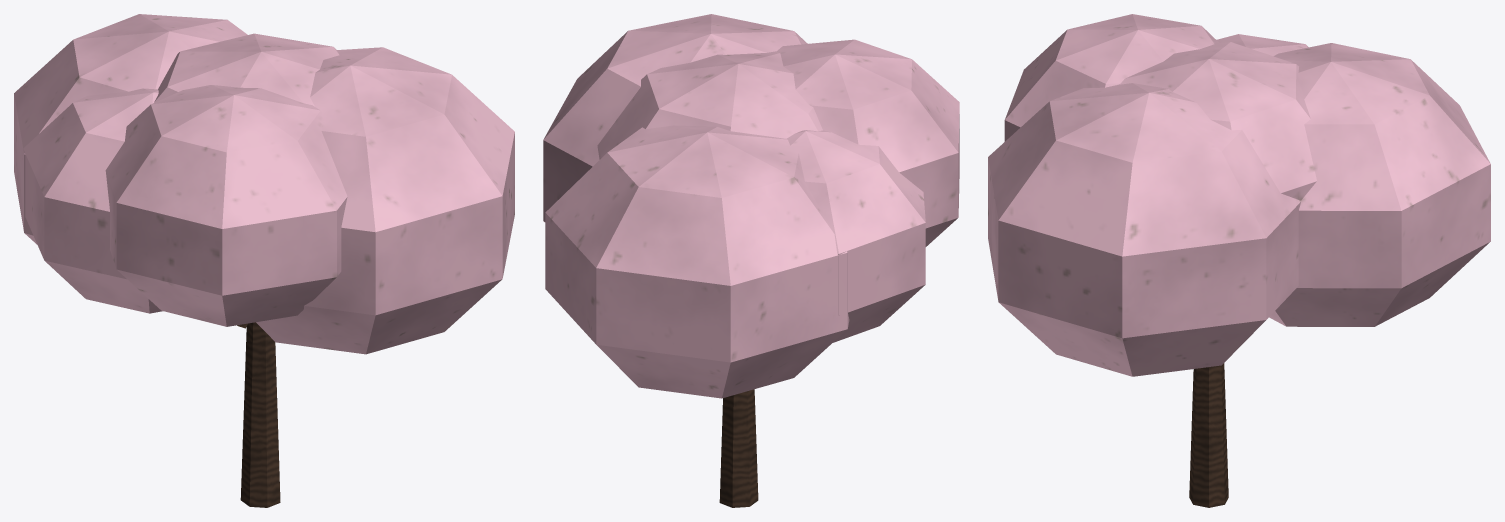
File: Tree_Cherry.fbx
3 renders of one model, left to right at view 1: azimuth 30°, elevation 25°; view 2: azimuth 150°, elevation 25°; view 3: azimuth 270°, elevation 25°, orthographic. The views are drawn at different scales.
Parts seen in each view (by area): view 1: Crown, Trunk; view 2: Crown, Trunk; view 3: Crown, Trunk.
Boxes of the visible parts, x1,y1,x2,y2 form: Crown: [14, 14, 514, 354]; Trunk: [237, 322, 280, 507]; Crown: [543, 14, 959, 398]; Trunk: [719, 389, 758, 507]; Crown: [988, 14, 1490, 376]; Trunk: [1189, 363, 1228, 507].
Size of the model in its own units: 6.5 by 6.71 by 6.94.
